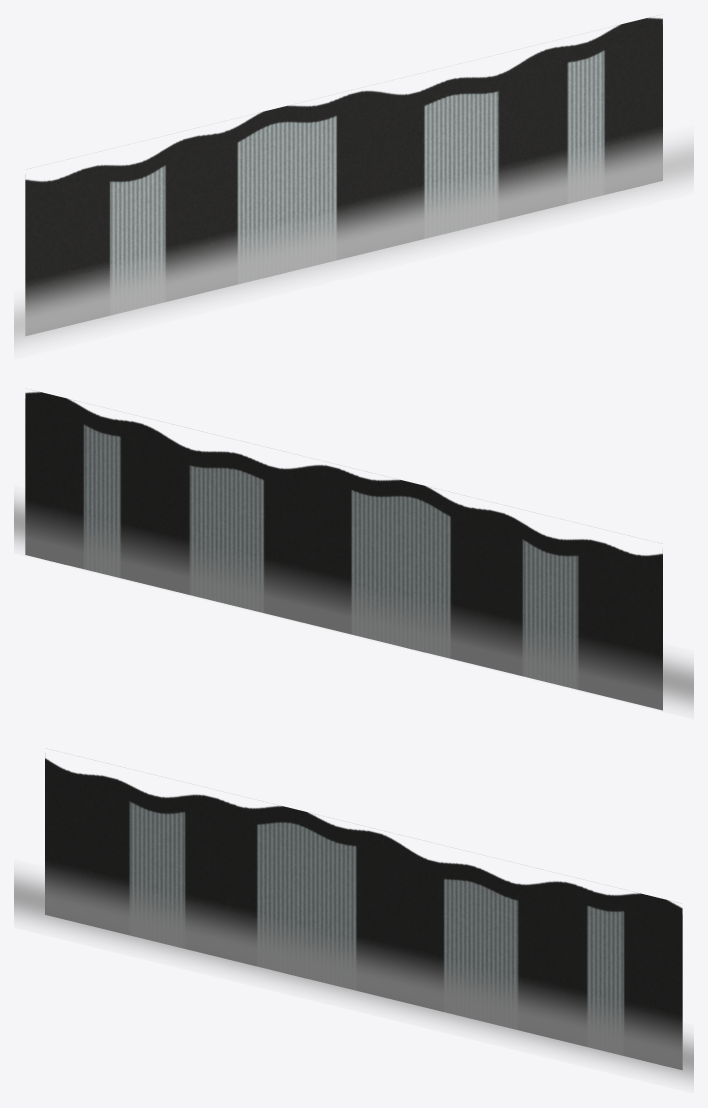
Rendered from tf_shoshone_falls_card.glb.
The picture shows the model from 3 angles, top to bottom: view 1: azimuth 30°, elevation 25°; view 2: azimuth 150°, elevation 25°; view 3: azimuth 330°, elevation 25°; orthographic projection.
Visible parts, largest first — view 1: falls, mist; view 2: falls, mist; view 3: falls, mist.
Boxes of the visible parts, x1,y1,x2,y2 form: falls: (25,17,662,335); mist: (14,136,693,351); falls: (25,391,662,710); mist: (14,495,693,711); falls: (45,758,682,1069); mist: (14,870,693,1085).
Size of the model in its own units: 320 by 80 by 8.
Materials: 2 (2 with a texture image).
